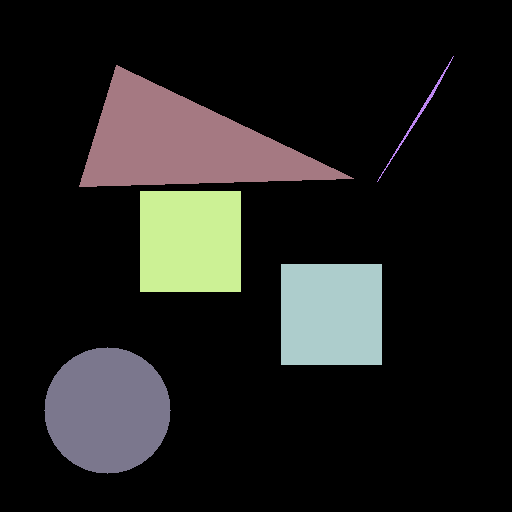circle: (44, 347, 170, 473)
square: (281, 264, 381, 364), (140, 191, 240, 291)
triangle: (79, 65, 353, 186)
